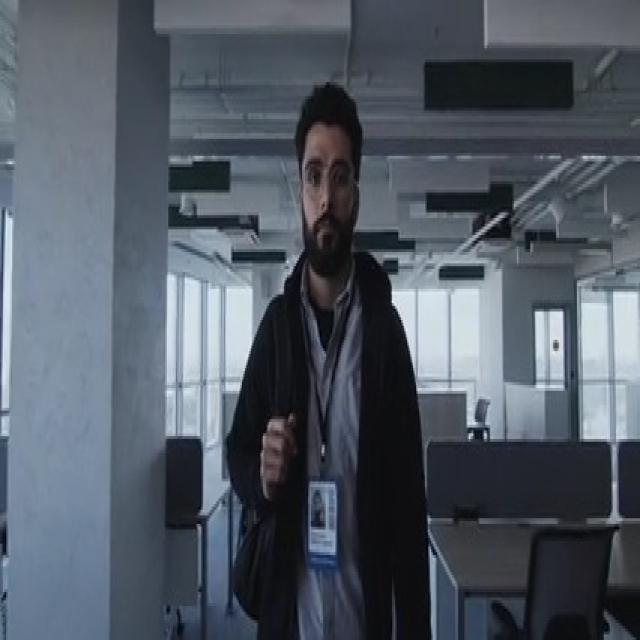Jacket_Wearer: (227, 233, 423, 640)
Person: (221, 62, 436, 640)
